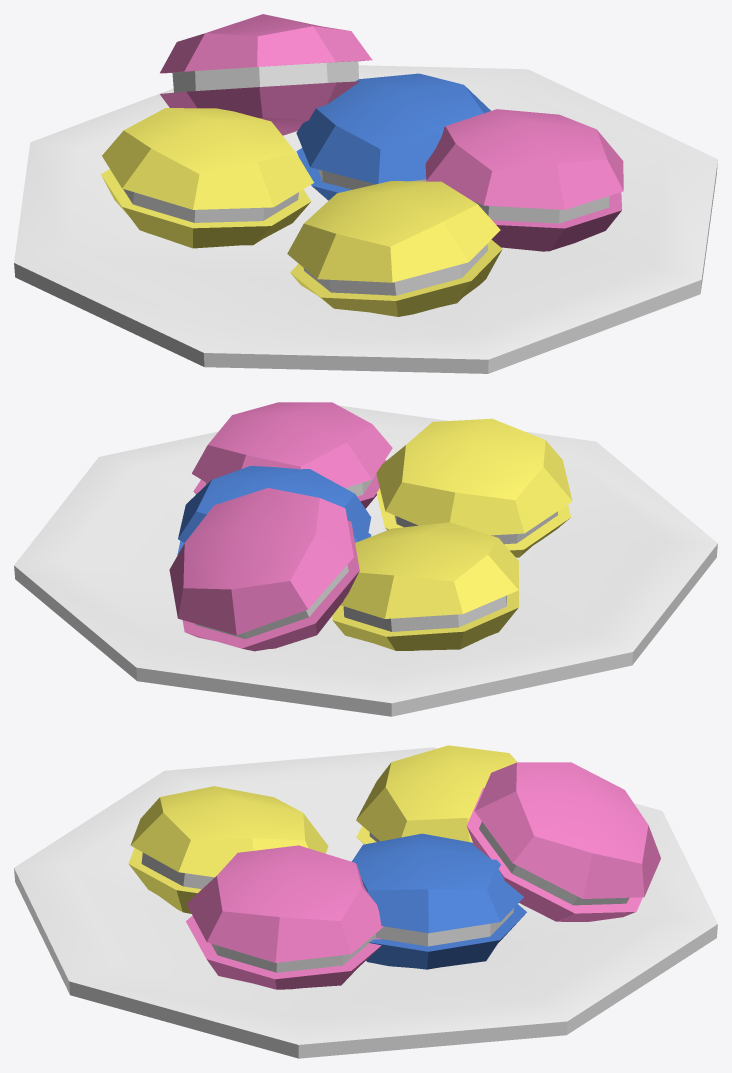
Rendered from Plato01.fbx.
3 views of the same model, one above another, from view 1: azimuth 30°, elevation 25°; view 2: azimuth 150°, elevation 25°; view 3: azimuth 270°, elevation 25° (orthographic). The views are drawn at different scales.
Visible parts, largest first — view 1: Plato01; view 2: Plato01; view 3: Plato01.
Boxes of the visible parts, <box> form: Plato01: <box>14,14,717,373</box>; Plato01: <box>14,402,717,716</box>; Plato01: <box>14,745,717,1058</box>.
Size of the model in its own units: 15.35 by 3.84 by 15.35.
